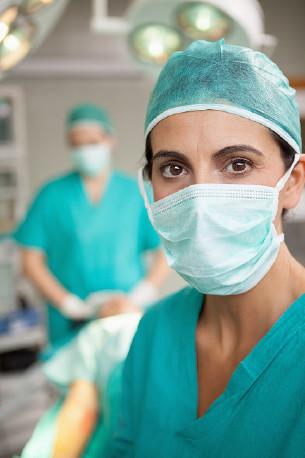OK: (139, 136, 299, 296), (68, 132, 112, 174)
